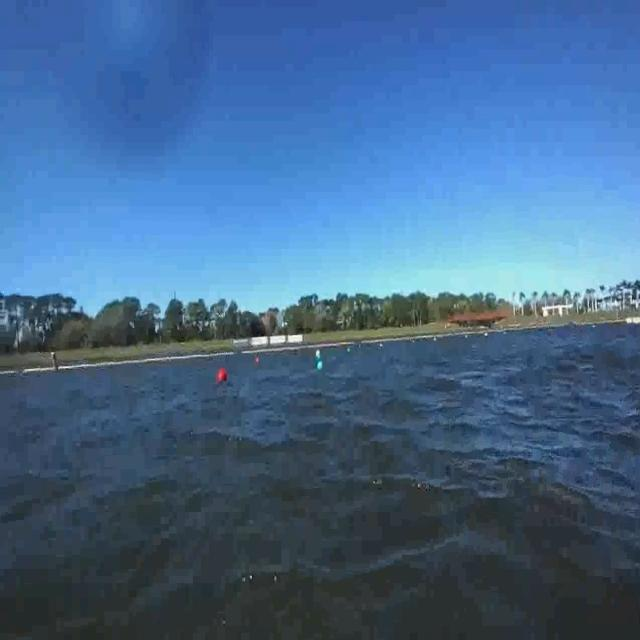green-buoy: (317, 356, 325, 373)
red-buoy: (218, 367, 228, 382)
